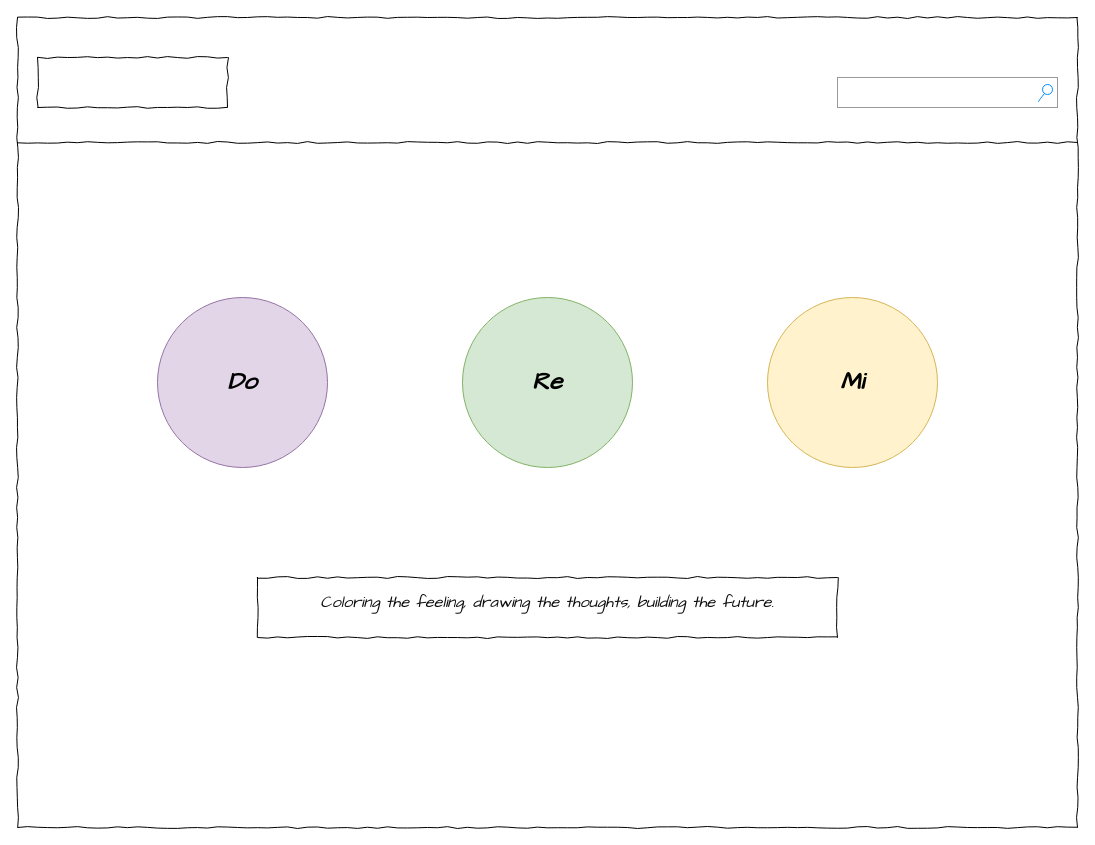
Some shapes in this 1095 by 845 pixel diagram are drawn without their labels. The centre of each missing label's shape, as x and y in pixels:
"Artwork Gallery" goes at (x=132, y=82).
"Search" goes at (x=947, y=92).
